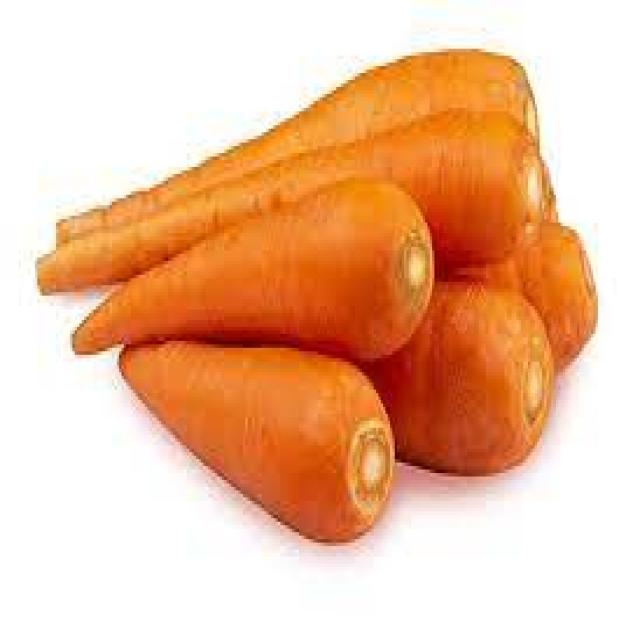Fresh_Carrot: (54, 41, 540, 246), (39, 116, 548, 292), (70, 195, 432, 352), (116, 348, 395, 542), (366, 284, 553, 474), (457, 240, 594, 369)
